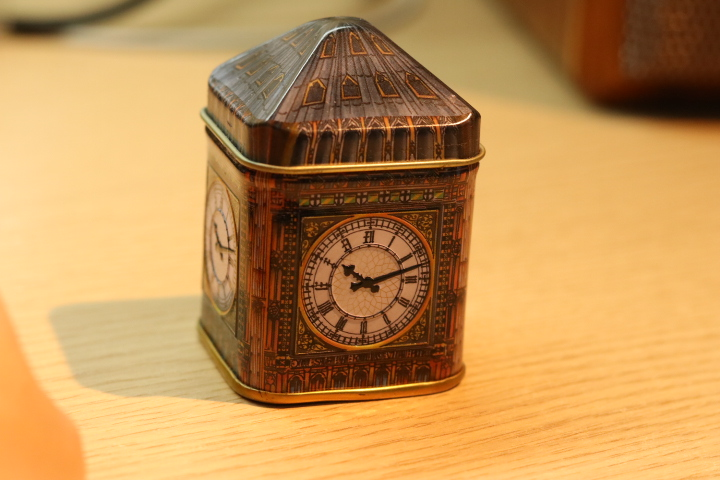Big Ben: (188, 14, 497, 425)
